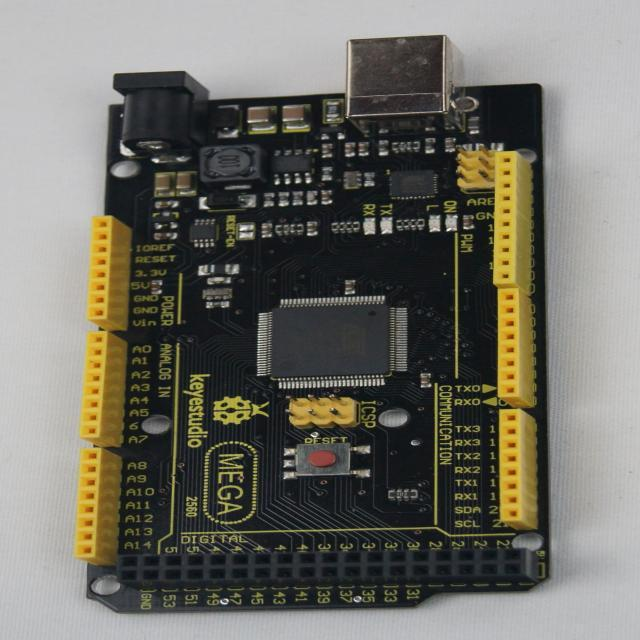Arduino Mega 2560 -Yellow-: (77, 36, 549, 612)
